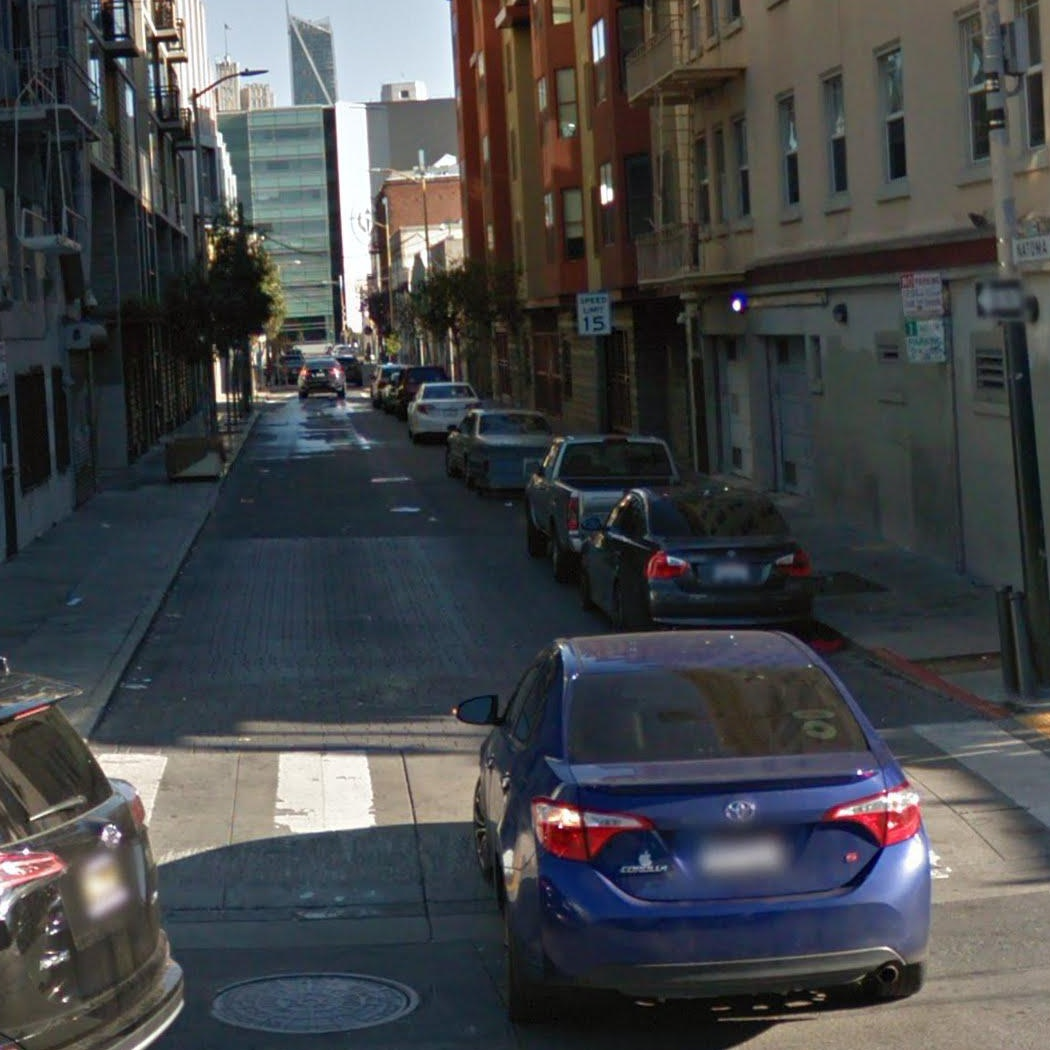1 Hour Parking: (903, 318, 948, 366)
No Parking: (898, 270, 945, 318)
